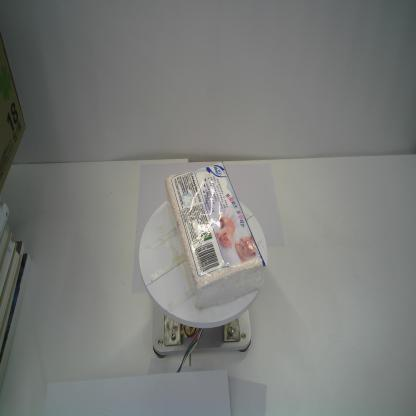Tissue: (165, 159, 269, 311)
